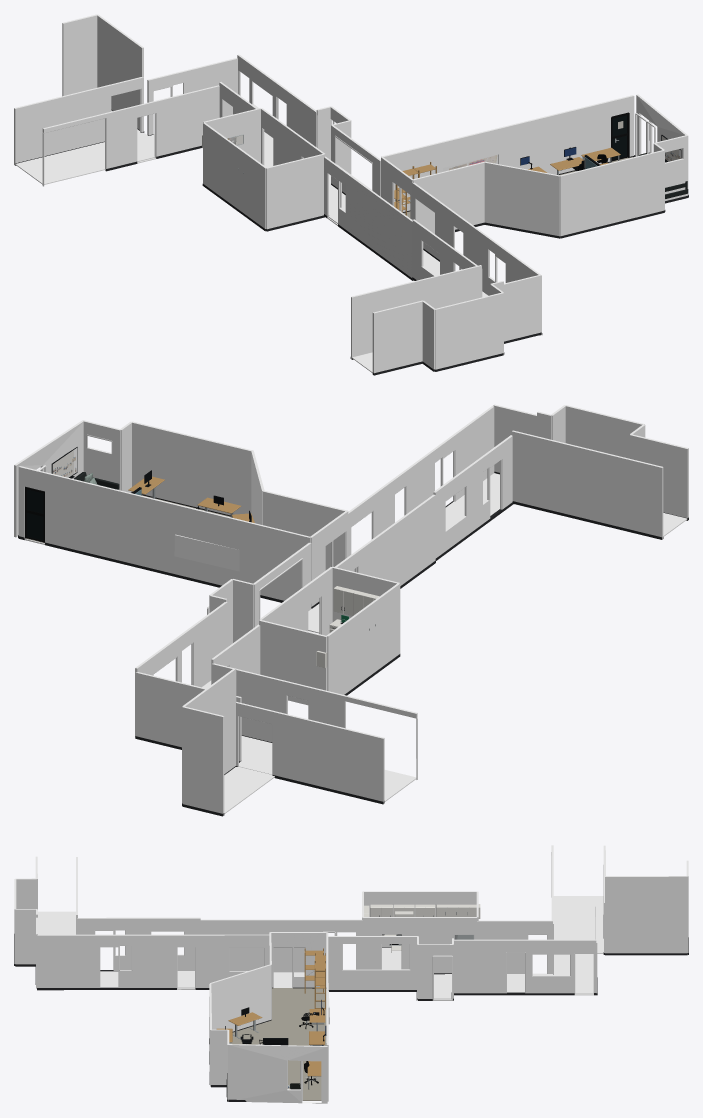
3 views of the same model, one above another, from view 1: azimuth 30°, elevation 25°; view 2: azimuth 150°, elevation 25°; view 3: azimuth 270°, elevation 25° (orthographic). The views are drawn at different scales.
Visible parts, largest first — view 1: architecture_region_lab-wall-1, architecture_region_lab-wall-5, architecture_region_north-inner, architecture_region_north-outer, architecture_region_lab-hall-west, architecture_region_lab-wall-6, architecture_region_west-inner, architecture_region_west-alcove-back, architecture_region_kitchen-wall-4, architecture_region_kitchen-wall-3, architecture_region_south-hall-east, architecture_region_west-outer-left (+20 smaller); view 2: architecture_region_lab-wall-1, architecture_region_west-inner, architecture_region_lab-wall-5, architecture_region_north-outer, architecture_region_south-hall-east, architecture_region_kitchen-wall-4, architecture_region_north-inner, architecture_region_lab-hall-west, architecture_region_stair-north, architecture_region_south-hall-west, architecture_region_kitchen-wall-1, architecture_region_north-entry (+22 smaller); view 3: architecture_region_south-hall-east, architecture_region_stair-east, architecture_region_central-east, architecture_region_lab-wall-2, architecture_region_lab-hall-west, architecture_floor_lab-2f, architecture_region_kitchen-wall-2, architecture_floor_north-hall-2f, architecture_region_central-east-south, architecture_region_lab-wall-6, architecture_region_south-hall-west, architecture_region_central-west (+11 smaller).
Boxes of the visible parts, left/top/right/bottom form: architecture_region_lab-wall-1: left=381, top=95, right=634, bottom=211; architecture_region_lab-wall-5: left=560, top=150, right=664, bottom=237; architecture_region_north-inner: left=42, top=85, right=219, bottom=186; architecture_region_north-outer: left=14, top=85, right=108, bottom=165; architecture_region_lab-hall-west: left=324, top=156, right=412, bottom=277; architecture_region_lab-wall-6: left=484, top=161, right=560, bottom=236; architecture_region_west-inner: left=351, top=265, right=481, bottom=359; architecture_region_west-alcove-back: left=434, top=292, right=503, bottom=369; architecture_region_kitchen-wall-4: left=203, top=122, right=266, bottom=228; architecture_region_kitchen-wall-3: left=266, top=154, right=324, bottom=229; architecture_region_south-hall-east: left=412, top=182, right=541, bottom=335; architecture_region_west-outer-left: left=372, top=300, right=422, bottom=373; architecture_region_lab-wall-1: left=18, top=466, right=310, bottom=600; architecture_region_west-inner: left=511, top=430, right=663, bottom=539; architecture_region_lab-wall-5: left=131, top=421, right=253, bottom=515; architecture_region_north-outer: left=275, top=711, right=384, bottom=803; architecture_region_south-hall-east: left=348, top=405, right=494, bottom=571; architecture_region_kitchen-wall-4: left=326, top=583, right=400, bottom=694; architecture_region_north-inner: left=211, top=663, right=417, bottom=779; architecture_region_lab-hall-west: left=335, top=494, right=435, bottom=585; architecture_region_stair-north: left=182, top=706, right=224, bottom=815; architecture_region_south-hall-west: left=433, top=435, right=512, bottom=557; architecture_region_kitchen-wall-1: left=259, top=620, right=327, bottom=705; architecture_region_north-entry: left=135, top=672, right=241, bottom=761; architecture_region_south-hall-east: left=37, top=934, right=269, bottom=989; architecture_region_stair-east: left=605, top=876, right=687, bottom=953; architecture_region_central-east: left=454, top=939, right=596, bottom=995; architecture_region_lab-wall-2: left=228, top=1044, right=327, bottom=1103; architecture_region_lab-hall-west: left=200, top=919, right=362, bottom=972; architecture_floor_lab-2f: left=229, top=988, right=326, bottom=1100; architecture_region_kitchen-wall-2: left=363, top=917, right=476, bottom=973; architecture_floor_north-hall-2f: left=553, top=896, right=603, bottom=994; architecture_region_central-east-south: left=328, top=936, right=417, bottom=989; architecture_region_lab-wall-6: left=210, top=964, right=271, bottom=1031; architecture_region_south-hall-west: left=77, top=917, right=200, bottom=970; architecture_region_central-west: left=477, top=920, right=552, bottom=973.
Bounding box in the file's own units: 24.21 × 4.21 × 32.79.
47 materials, 3 textured.
